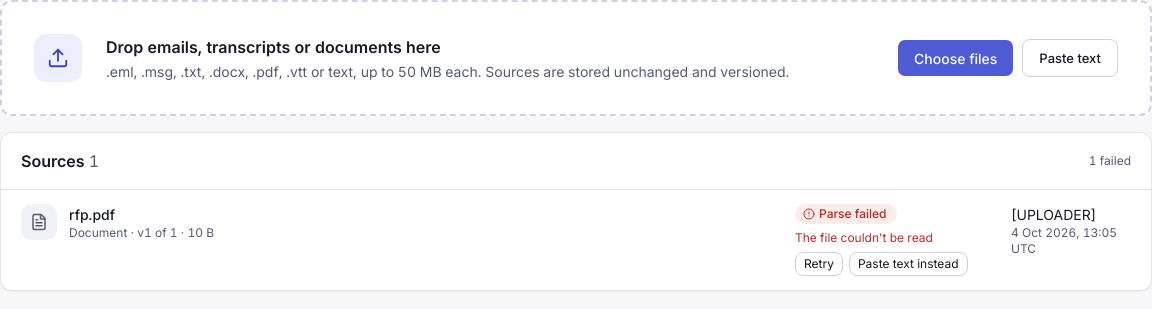
Scenario: SourcesSection parsing › a Retry answered 409 re-reads the list
Click the button with aria-label "Retry: rfp.pdf".
click(819, 264)  # box [795,252,843,276]
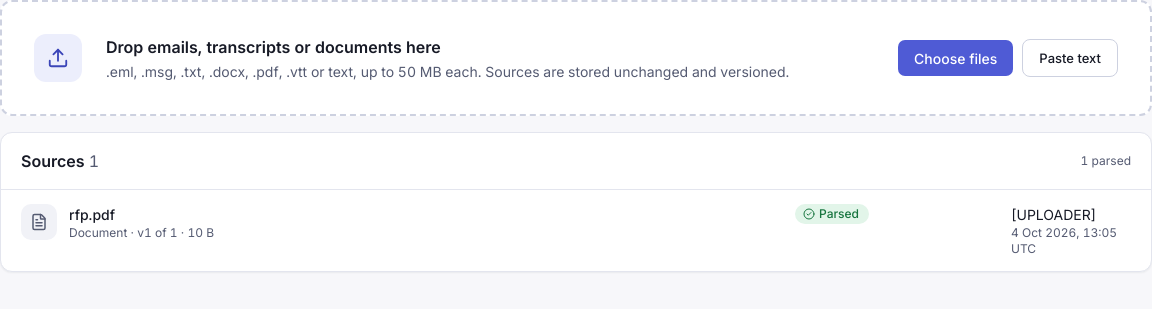
Check: the text "Parsed" is shown, box [795,204,869,224]
